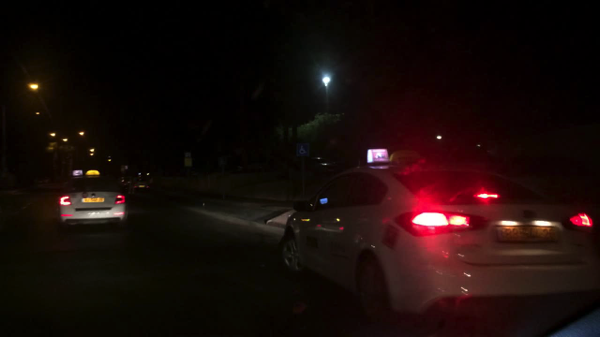car: (278, 148, 598, 324), (58, 170, 128, 228), (128, 171, 152, 195), (119, 171, 131, 186)
traffic sign: (296, 142, 309, 157), (184, 159, 191, 167), (184, 153, 191, 158), (124, 164, 129, 170), (120, 164, 124, 169)
